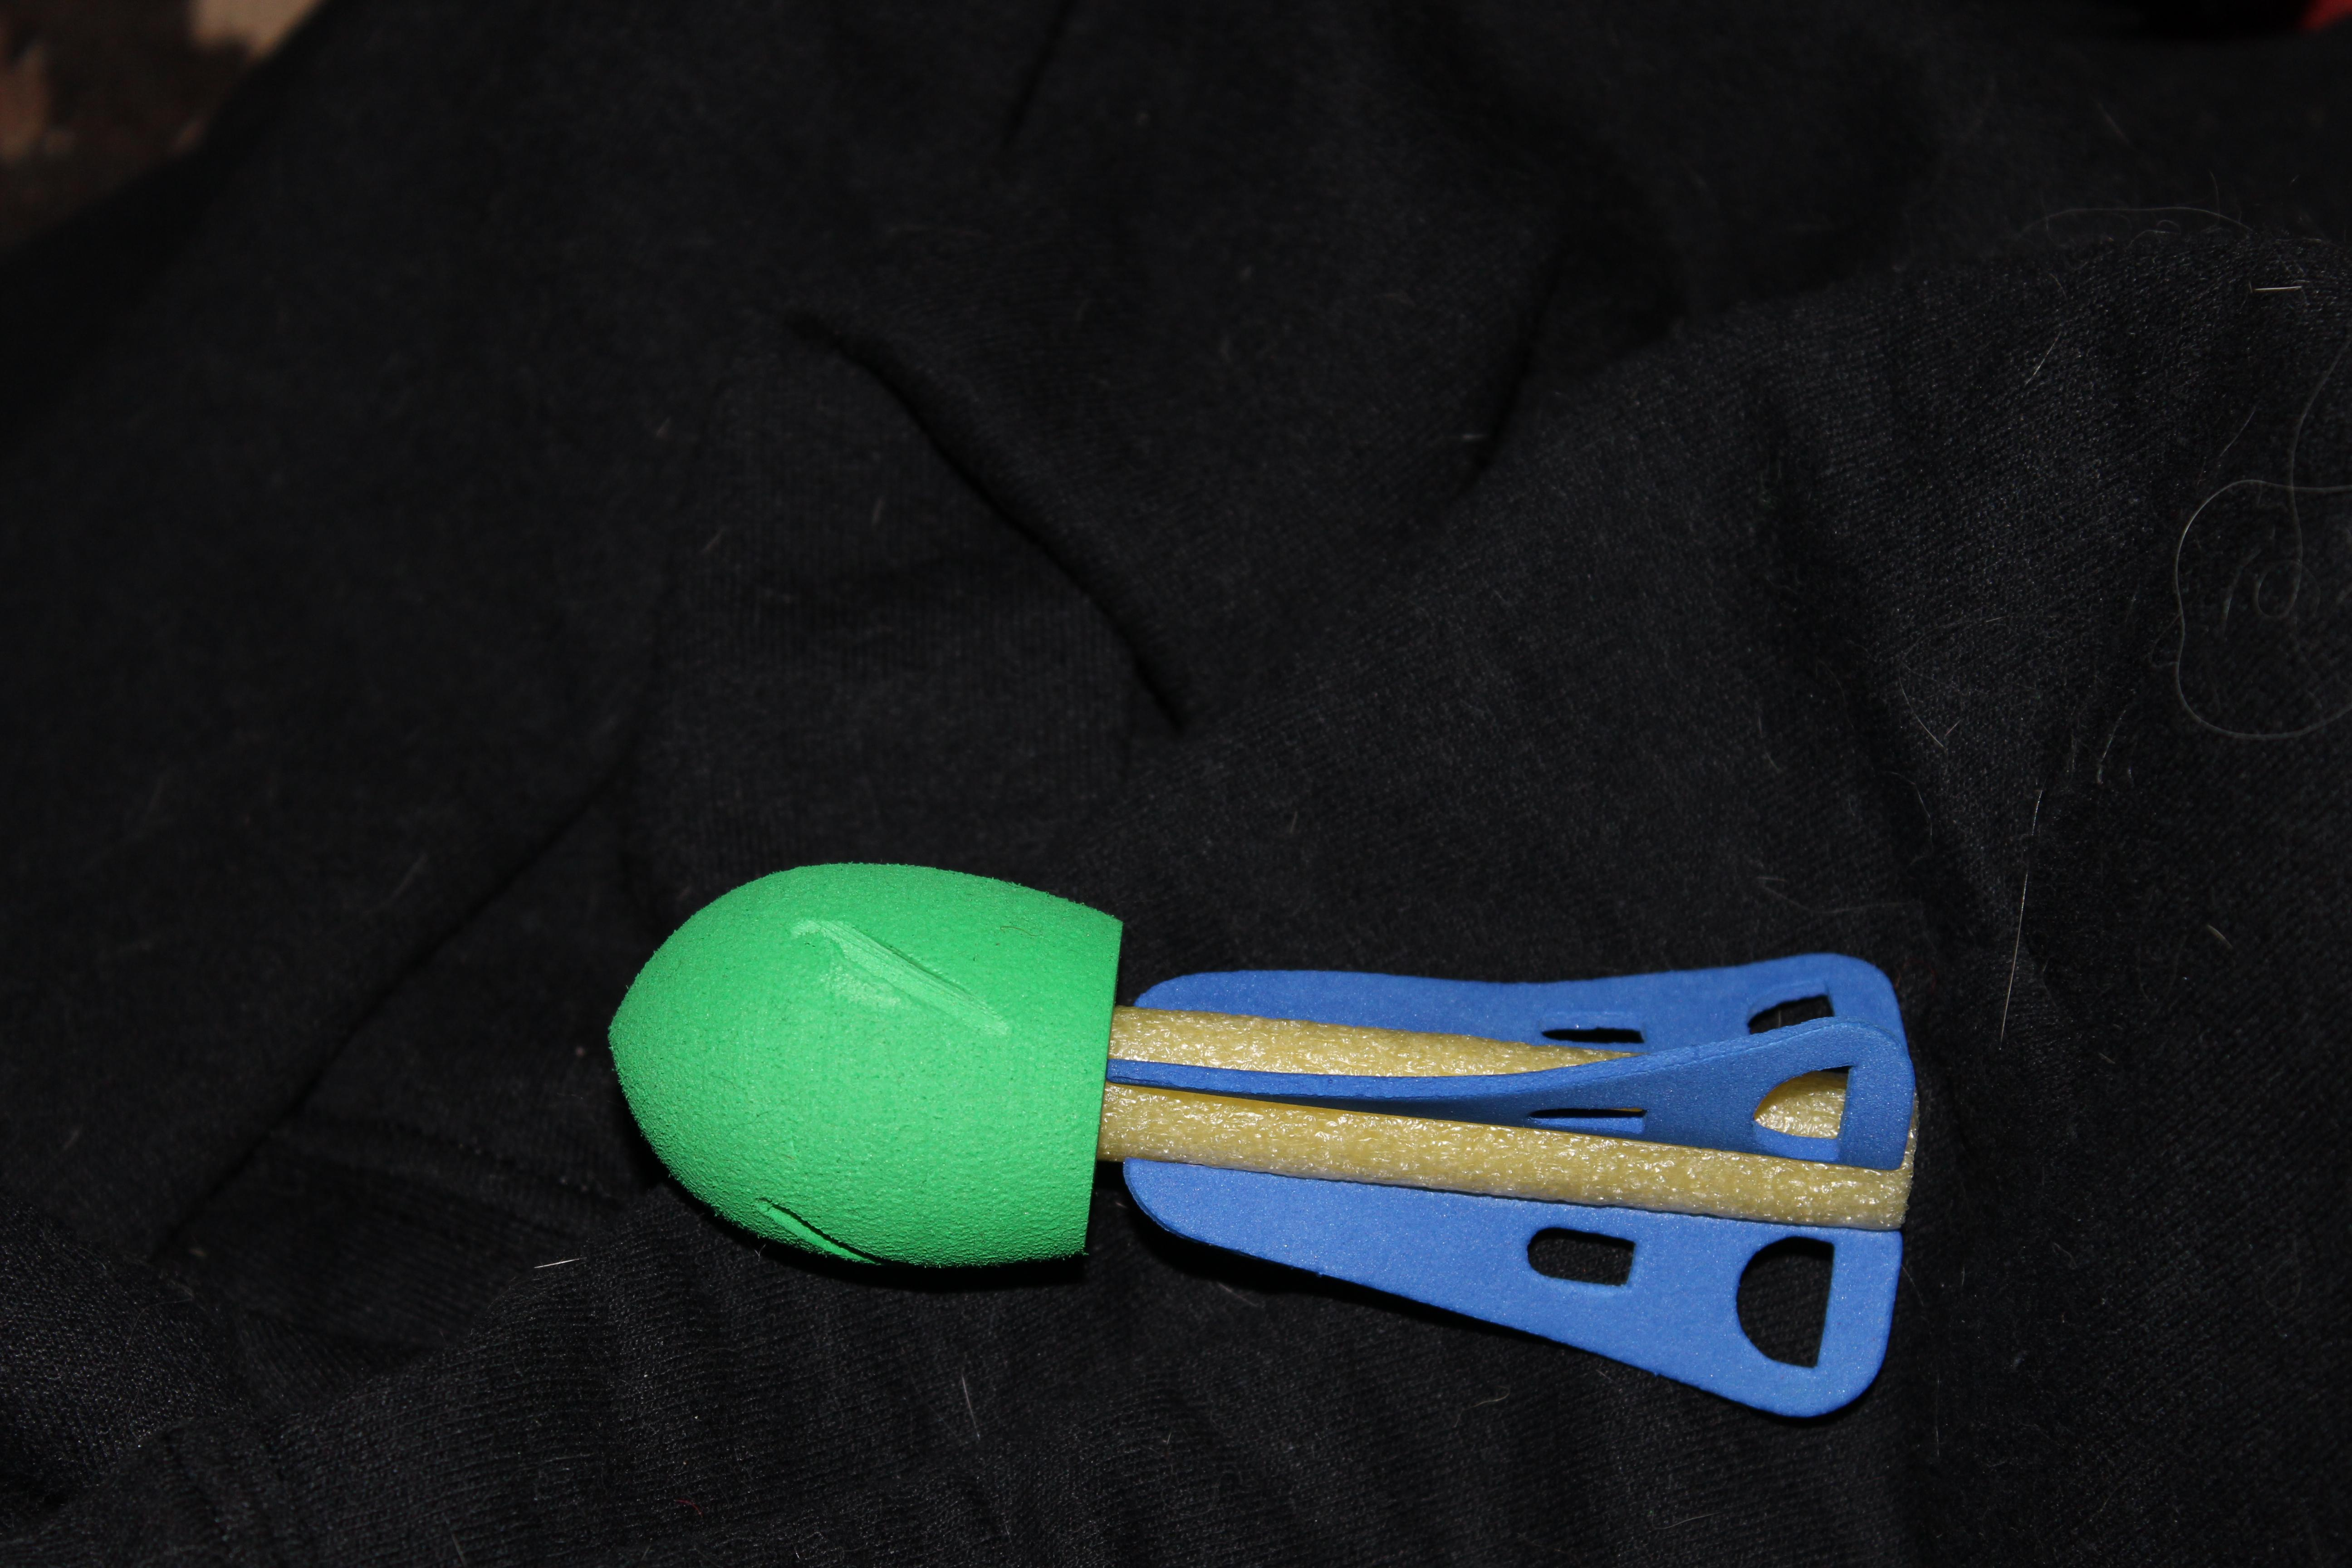foamDart: (557, 817, 1950, 1463)
